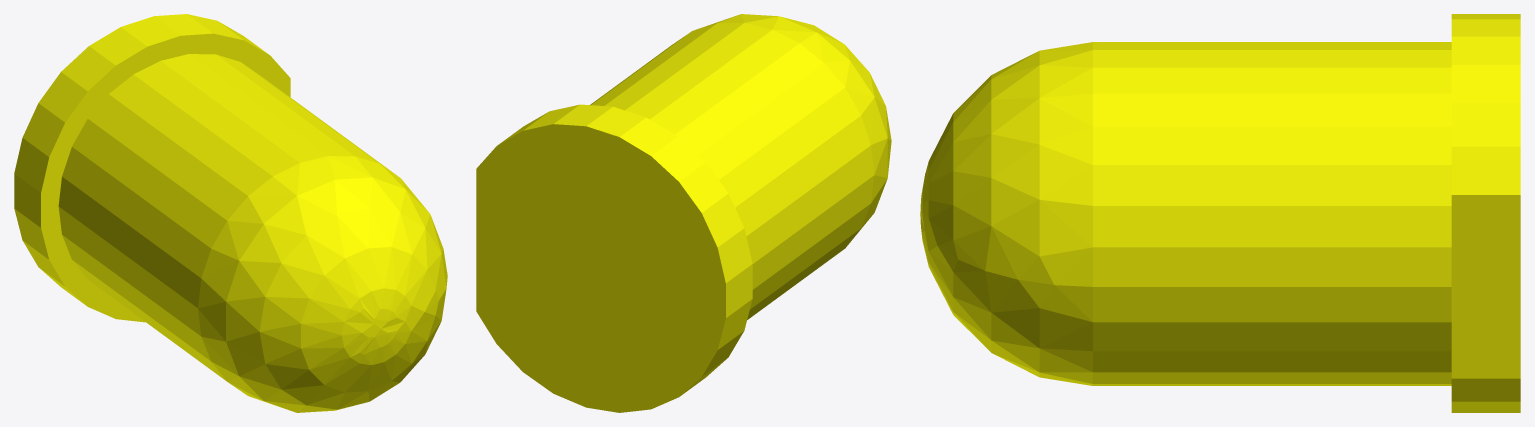
The model's file is LedYellow.obj.
3 views of the same model, side by side, from view 1: azimuth 30°, elevation 25°; view 2: azimuth 150°, elevation 25°; view 3: azimuth 270°, elevation 25° (orthographic). The views are drawn at different scales.
Parts seen in each view (by area): view 1: LedYellow; view 2: LedYellow; view 3: LedYellow.
Boxes of the visible parts, left/top/right/bottom form: LedYellow: left=14, top=14, right=447, bottom=412; LedYellow: left=476, top=14, right=891, bottom=412; LedYellow: left=920, top=14, right=1520, bottom=412.
Size of the model in its own units: 0.0133 by 0.0143 by 0.0215.
